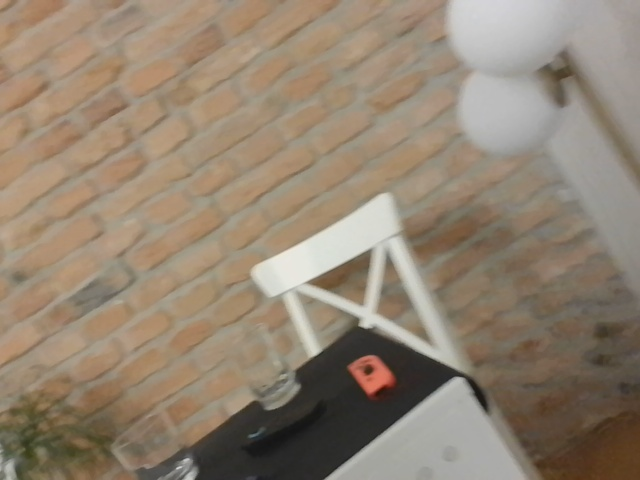glass: (106, 407, 206, 478), (223, 327, 306, 412)
joycon: (236, 399, 324, 454), (344, 355, 394, 397)
